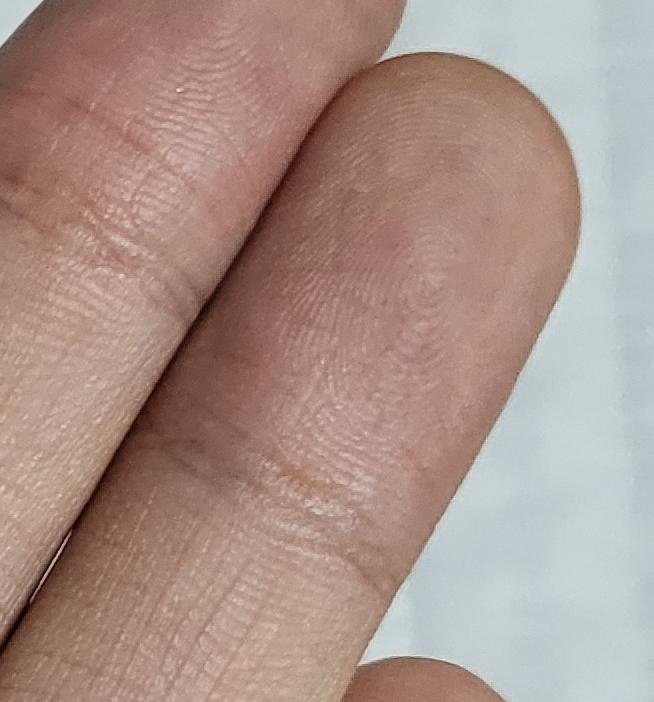Fingerprints: (159, 50, 582, 592)
